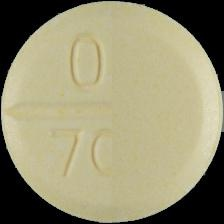51285-691: (0, 0, 224, 224)
